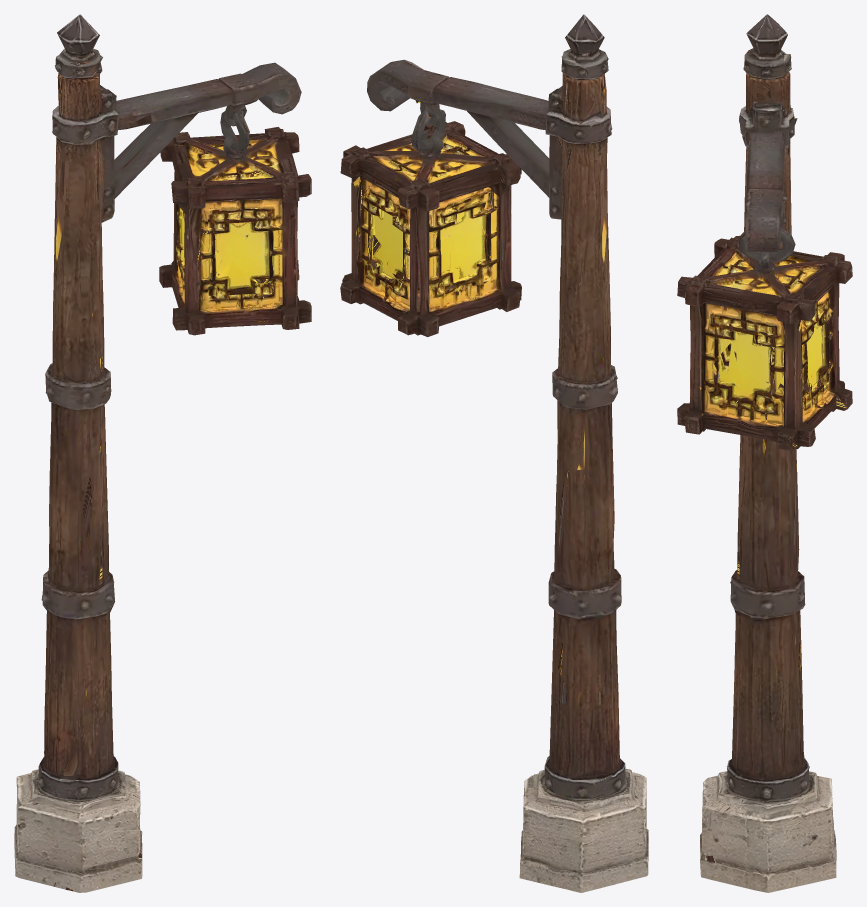
File: prop_lamp_post.de1d5b9d.glb
3 renders of one model, left to right at view 1: azimuth 30°, elevation 25°; view 2: azimuth 150°, elevation 25°; view 3: azimuth 270°, elevation 25°, orthographic.
Visible parts, largest first — view 1: tripo_node_8293cfbe-68e0-418c-bd25-1157361aaafd; view 2: tripo_node_8293cfbe-68e0-418c-bd25-1157361aaafd; view 3: tripo_node_8293cfbe-68e0-418c-bd25-1157361aaafd.
Part boxes in pixels (x1,y1,x2,y2): tripo_node_8293cfbe-68e0-418c-bd25-1157361aaafd: (14,14,311,892); tripo_node_8293cfbe-68e0-418c-bd25-1157361aaafd: (340,14,648,892); tripo_node_8293cfbe-68e0-418c-bd25-1157361aaafd: (677,14,852,892).
Bounding box in the file's own units: 1.74 × 4.8 × 0.8995.
1 material, 1 textured.
